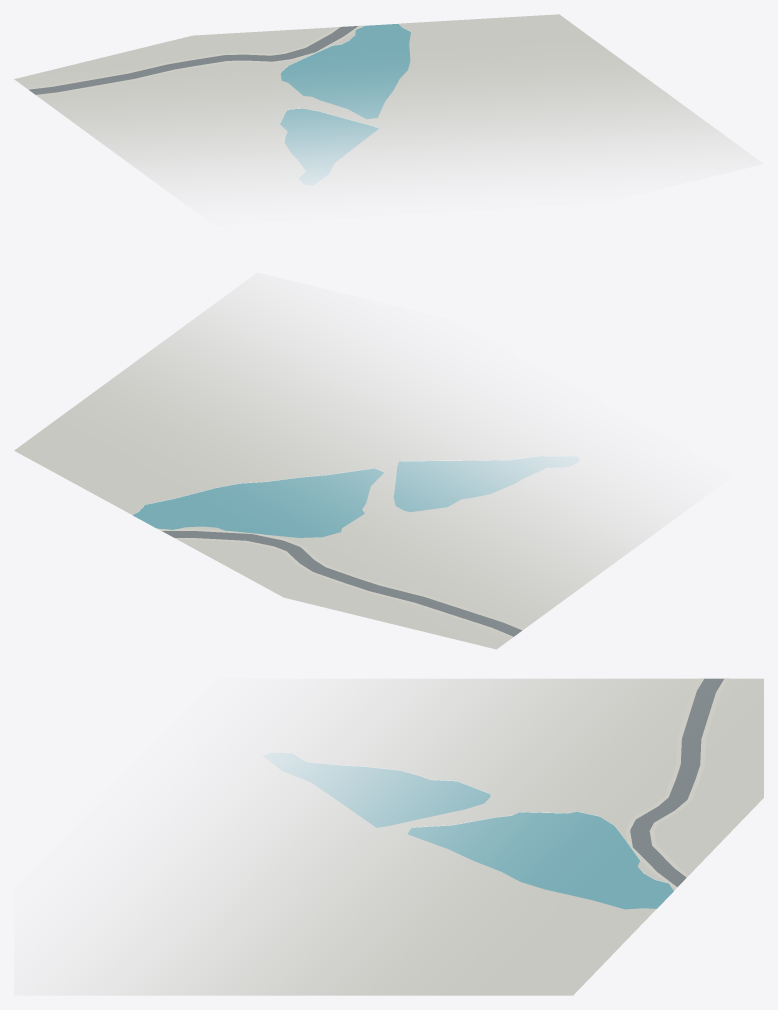
3 views of the same model, one above another, from view 1: azimuth 30°, elevation 25°; view 2: azimuth 150°, elevation 25°; view 3: azimuth 270°, elevation 25° (orthographic). The views are drawn at different scales.
Visible parts, largest first — view 1: city; view 2: city; view 3: city.
Part boxes in pixels (x1,y1,x2,y2): city: (14, 14, 761, 199); city: (14, 273, 692, 649); city: (14, 678, 763, 995).
Size of the model in its own units: 500 by 0.4 by 500.
